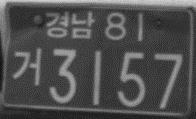1: (87, 50, 107, 105), (133, 13, 149, 41)
3: (49, 48, 76, 103)
5: (117, 51, 145, 107)
7: (153, 52, 183, 108)
8: (104, 11, 127, 40)
거: (11, 47, 42, 86)
경남_O: (44, 10, 95, 39)
